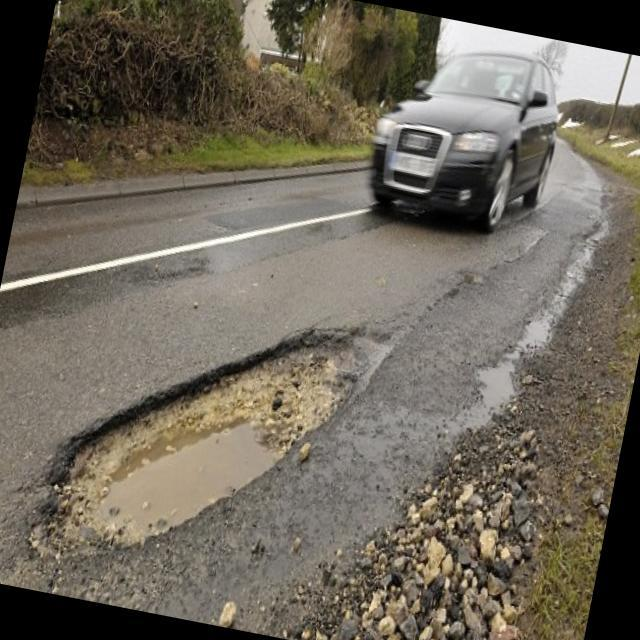Pothole: (22, 262, 402, 600)
